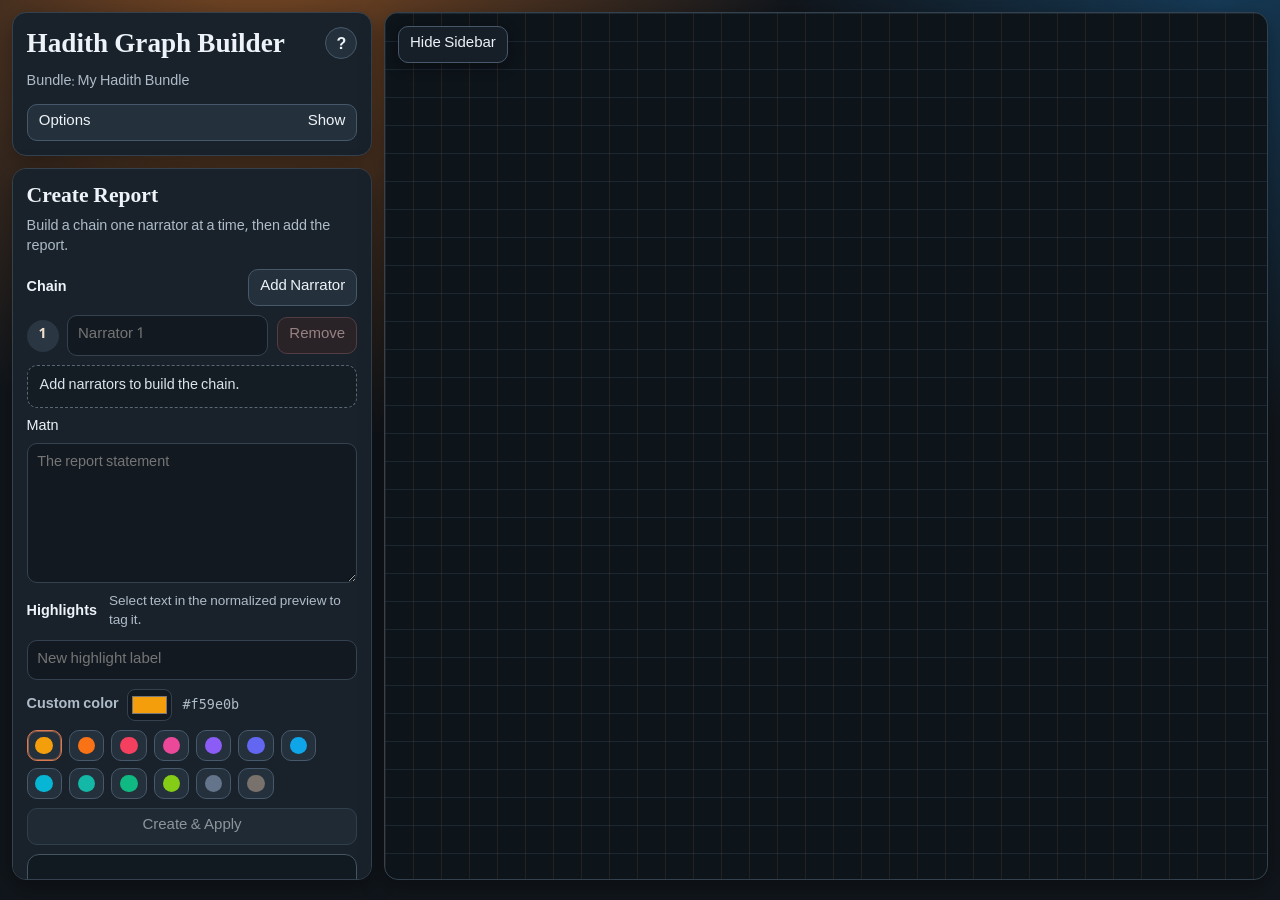
App › opens the about dialog from the sidebar title and shows the repository link
Click the button named "About Hadith Graph Builder": (341, 43) [325,27,357,59]
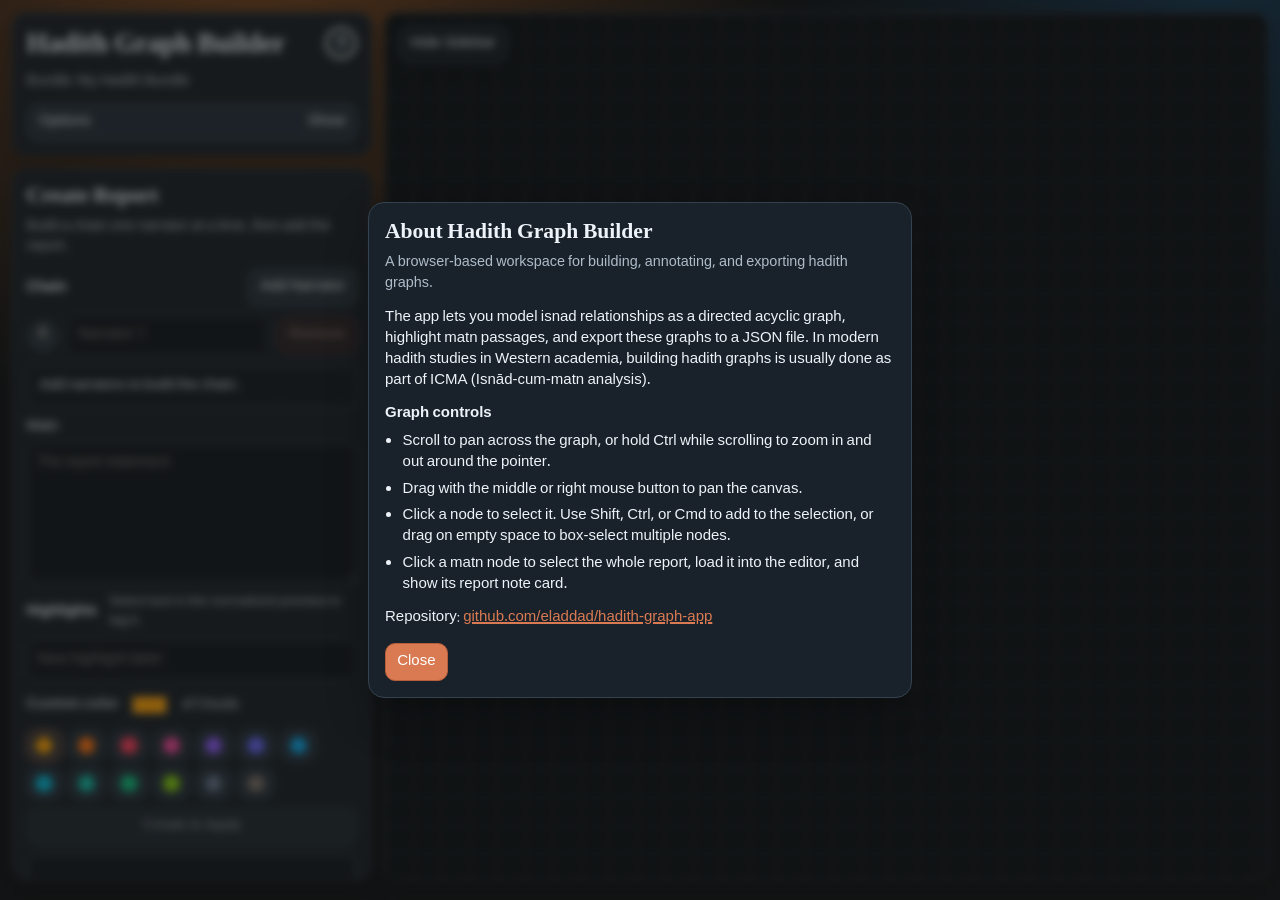
Now the heading "About Hadith Graph Builder" is shown, box [385,215,652,252]
Now the text "Graph controls" is shown, box [385,401,492,427]
Now the list item "Click a matn node to select the whole report" is shown, box [403,551,859,598]
Click the button "Close": (416, 662) [385,644,448,681]
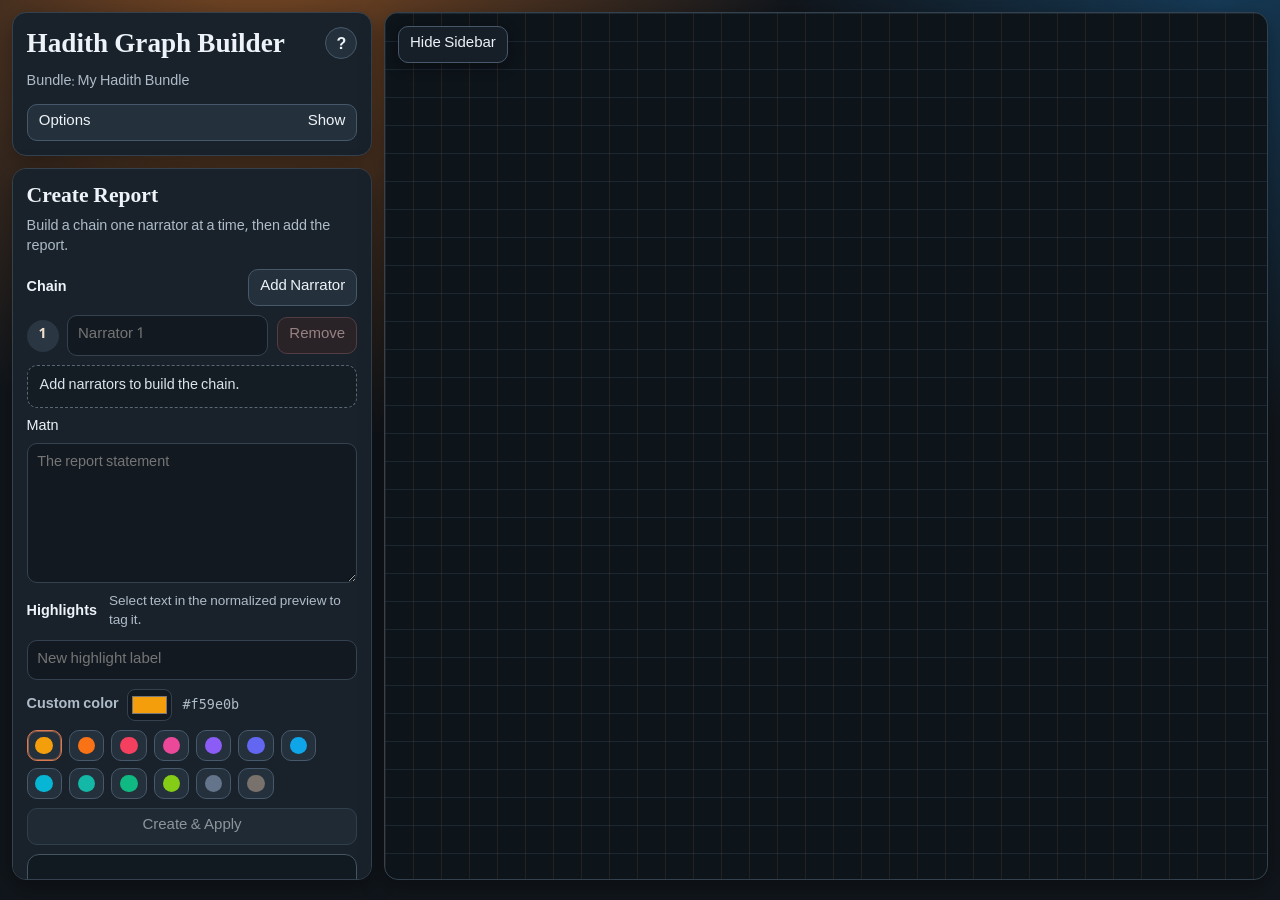
Now the heading "About Hadith Graph Builder" is gone
